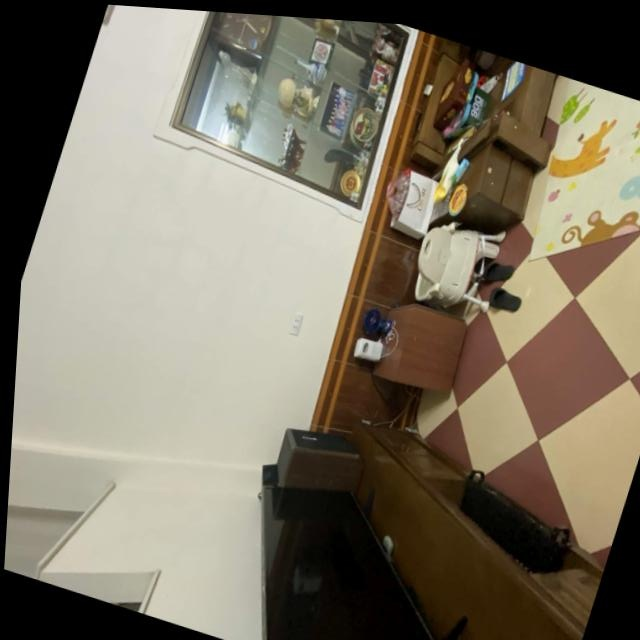outlet: (288, 313, 304, 338)
